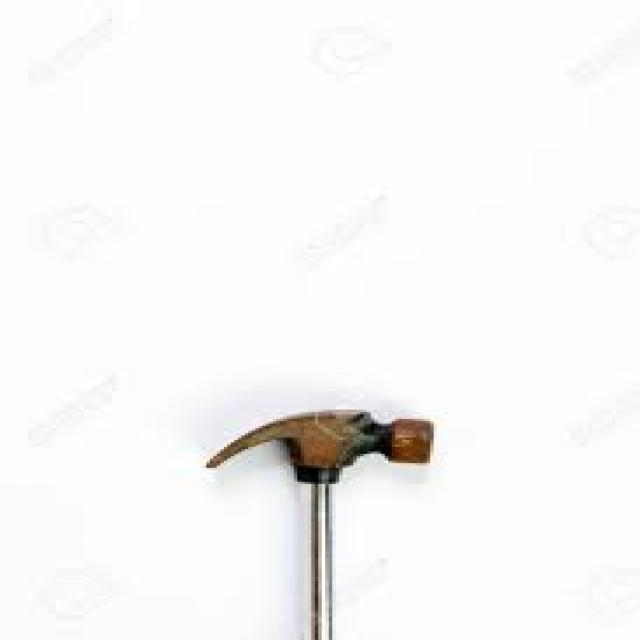hammer: (185, 384, 451, 640)
